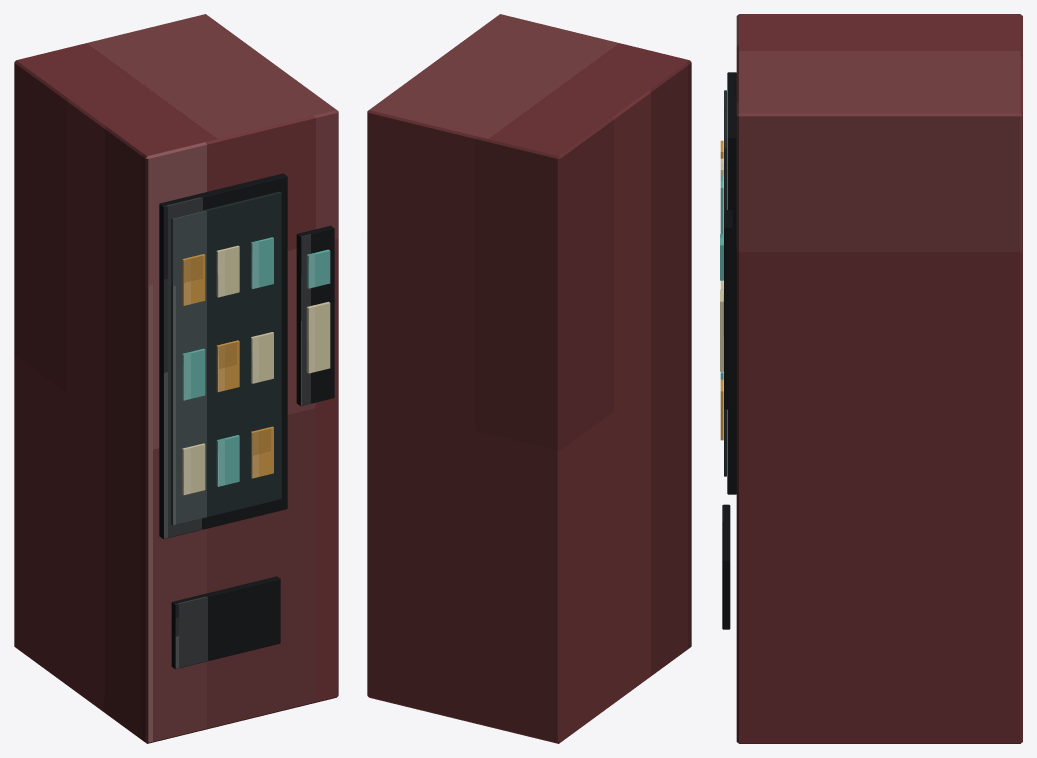
Rendered from vending_machine.glb.
The picture shows the model from 3 angles, left to right: view 1: azimuth 30°, elevation 25°; view 2: azimuth 150°, elevation 25°; view 3: azimuth 270°, elevation 25°; orthographic projection. The views are drawn at different scales.
Parts seen in each view (by area): view 1: VendingBody, DisplayGlass, DisplayRecess, Dispenser, ControlPanel, VendingKeys, Drink_1_1, Drink_1_2, Drink_3_2, Drink_2_2, Drink_3_1, Drink_2_1 (+4 smaller); view 2: VendingBody; view 3: VendingBody, DisplayRecess, ControlPanel, Dispenser, DisplayGlass.
Boxes of the visible parts, bbox=[...] form: VendingBody: bbox=[14, 14, 338, 743]; DisplayGlass: bbox=[171, 191, 281, 525]; DisplayRecess: bbox=[159, 173, 287, 539]; Dispenser: bbox=[171, 576, 280, 669]; ControlPanel: bbox=[296, 225, 334, 405]; VendingKeys: bbox=[306, 301, 330, 373]; Drink_1_1: bbox=[182, 443, 205, 495]; Drink_1_2: bbox=[216, 435, 239, 486]; Drink_3_2: bbox=[216, 245, 239, 297]; Drink_2_2: bbox=[216, 340, 239, 392]; Drink_3_1: bbox=[182, 254, 205, 305]; Drink_2_1: bbox=[182, 348, 205, 400]; VendingBody: bbox=[367, 14, 691, 743]; VendingBody: bbox=[736, 14, 1022, 743]; DisplayRecess: bbox=[727, 72, 736, 494]; ControlPanel: bbox=[724, 210, 732, 409]; Dispenser: bbox=[722, 504, 730, 629]; DisplayGlass: bbox=[724, 90, 726, 476].
Bounding box in the file's own units: 0.62 × 1.8 × 0.783.
Materials: 1 (1 with a texture image).
